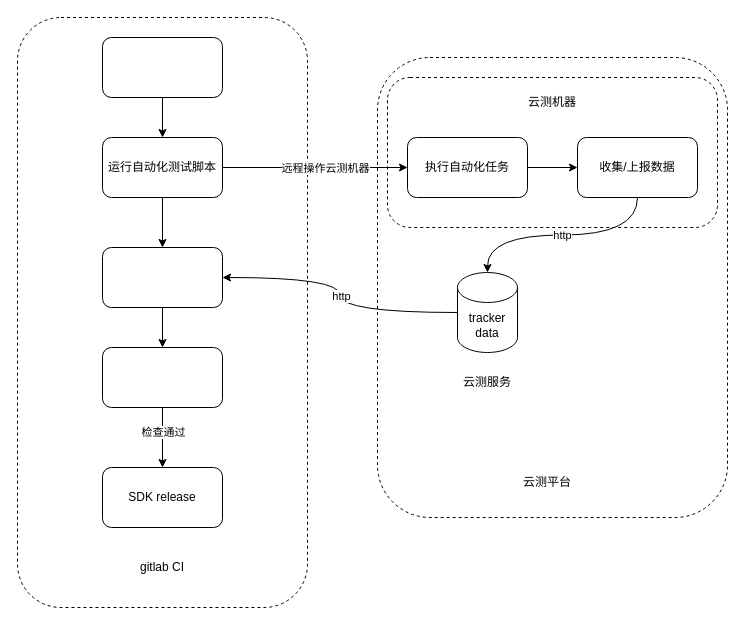
Some shapes in this 745 by 625 pixel diagram are drawn without their labels. Here are the shapes that lost their labels. From the top down, the centre of each, then its label:
At point (162, 67): "before SDK release".
At point (162, 277): "get tracker data".
At point (162, 377): "检查数据".
